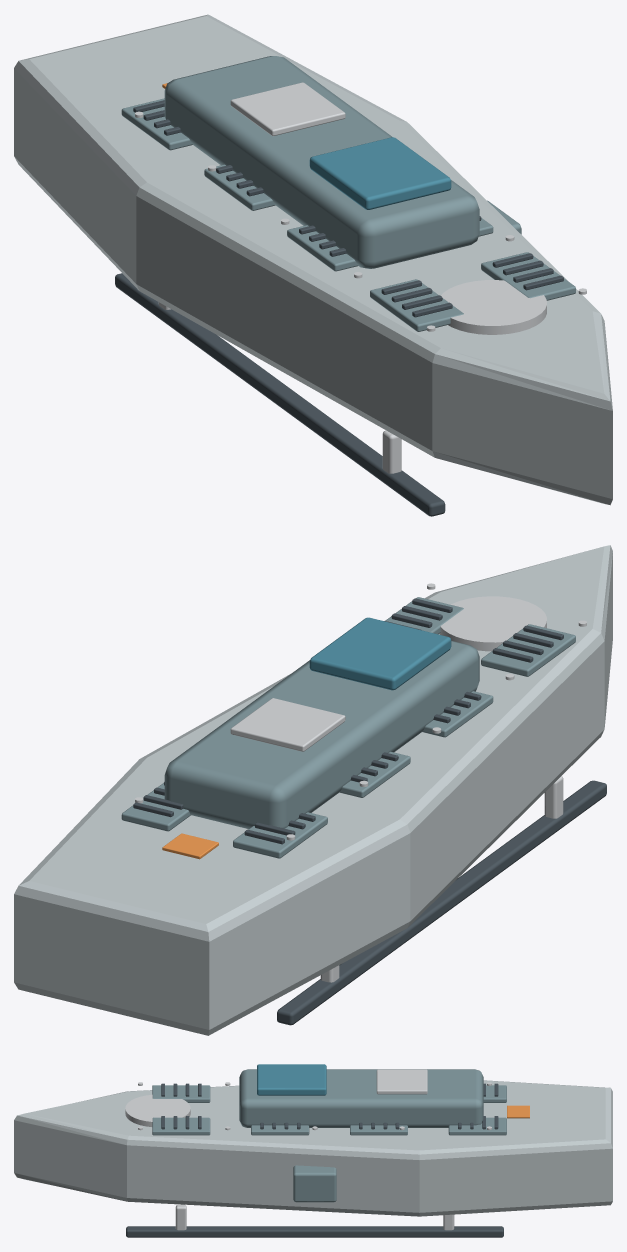
The picture shows the model from 3 angles, top to bottom: view 1: azimuth 30°, elevation 25°; view 2: azimuth 150°, elevation 25°; view 3: azimuth 270°, elevation 25°; orthographic projection. The views are drawn at different scales.
Parts seen in each view (by area): view 1: corvette-core; view 2: corvette-core; view 3: corvette-core.
Part boxes in pixels (x1,y1,x2,y2): corvette-core: [14, 14, 612, 516]; corvette-core: [14, 545, 612, 1035]; corvette-core: [14, 1064, 612, 1237].
Size of the model in its own units: 2.67 by 2.07 by 8.24.
